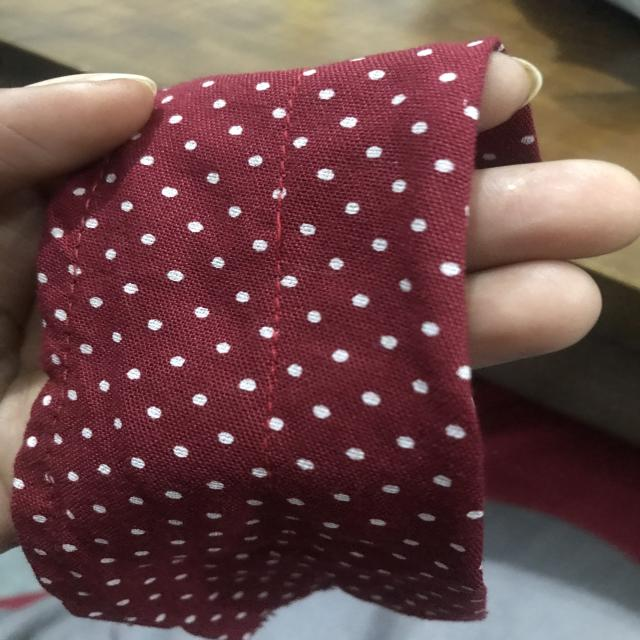skip: (263, 202, 307, 271)
